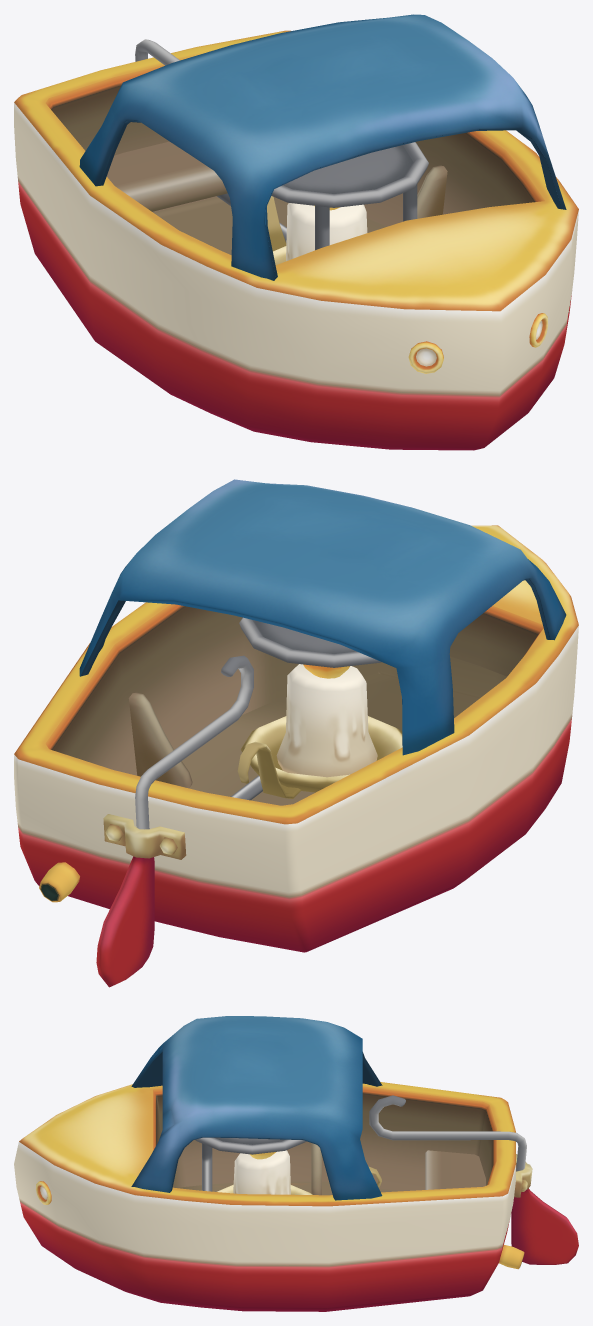
File: 3d_daily_ghibli.glb
3 views of the same model, one above another, from view 1: azimuth 30°, elevation 25°; view 2: azimuth 150°, elevation 25°; view 3: azimuth 270°, elevation 25° (orthographic). The views are drawn at different scales.
Parts seen in each view (by area): view 1: Ghibli:pPlane46; view 2: Ghibli:pPlane46; view 3: Ghibli:pPlane46.
Boxes of the visible parts, x1,y1,x2,y2 form: Ghibli:pPlane46: (14, 14, 578, 450); Ghibli:pPlane46: (14, 479, 578, 987); Ghibli:pPlane46: (14, 1016, 578, 1311).
Size of the model in its own units: 18.74 by 14.03 by 34.46.
1 material, 1 textured.
